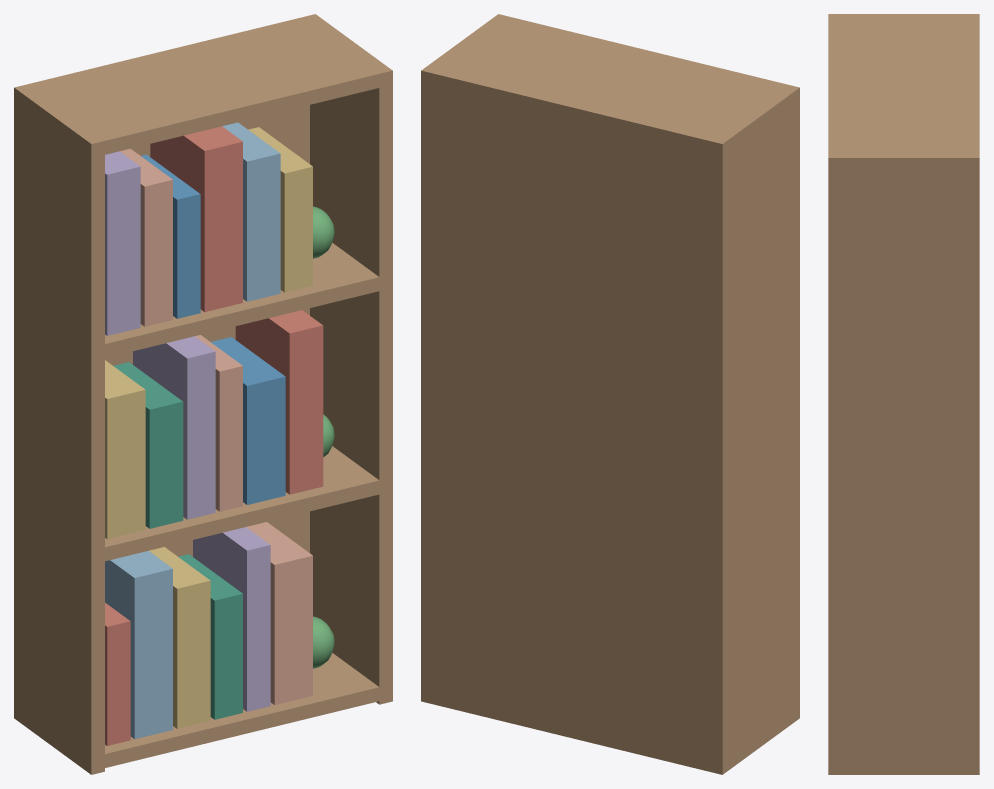
The model's file is furn_bookshelf_ph.glb.
3 views of the same model, side by side, from view 1: azimuth 30°, elevation 25°; view 2: azimuth 150°, elevation 25°; view 3: azimuth 270°, elevation 25° (orthographic). The views are drawn at different scales.
Visible parts, largest first — view 1: furn_bookshelf; view 2: furn_bookshelf; view 3: furn_bookshelf.
Part boxes in pixels (x1,y1,x2,y2): furn_bookshelf: (14,14,392,774); furn_bookshelf: (421,14,799,774); furn_bookshelf: (828,14,979,774).
Size of the model in its own units: 0.9 by 1.8 by 0.4.
